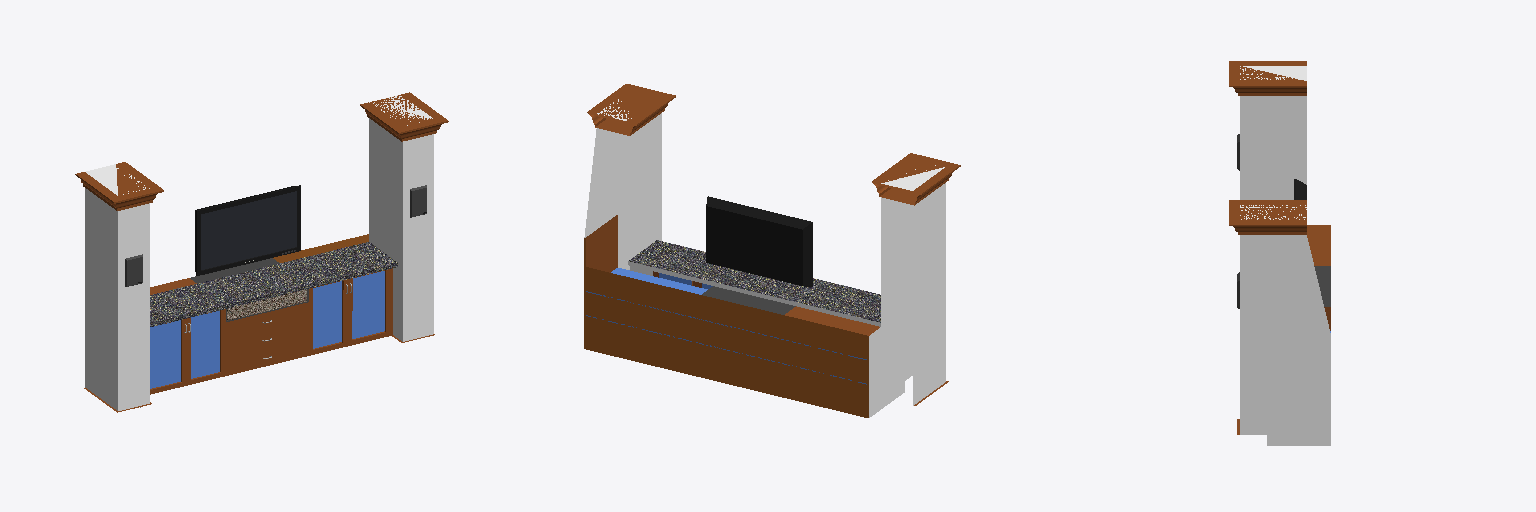
3 views of the same model, side by side, from view 1: azimuth 30°, elevation 25°; view 2: azimuth 150°, elevation 25°; view 3: azimuth 270°, elevation 25° (orthographic).
Parts seen in each view (by area): view 1: Mesh98 TV1 Model, Mesh97 TV_FlatScreen_42in1 TV1 Model; view 2: Mesh98 TV1 Model, Mesh97 TV_FlatScreen_42in1 TV1 Model, Mesh78 Component_25_1 TV1 Model; view 3: Mesh98 TV1 Model.
Boxes of the visible parts, <box> form: Mesh98 TV1 Model: <box>75,92,448,412</box>; Mesh97 TV_FlatScreen_42in1 TV1 Model: <box>195,185,300,275</box>; Mesh98 TV1 Model: <box>584,84,960,417</box>; Mesh97 TV_FlatScreen_42in1 TV1 Model: <box>706,196,812,286</box>; Mesh78 Component_25_1 TV1 Model: <box>586,268,866,359</box>; Mesh98 TV1 Model: <box>1229,61,1330,445</box>.
Size of the model in its own units: 3.23 by 2.08 by 0.8509.
19 materials, 3 textured.